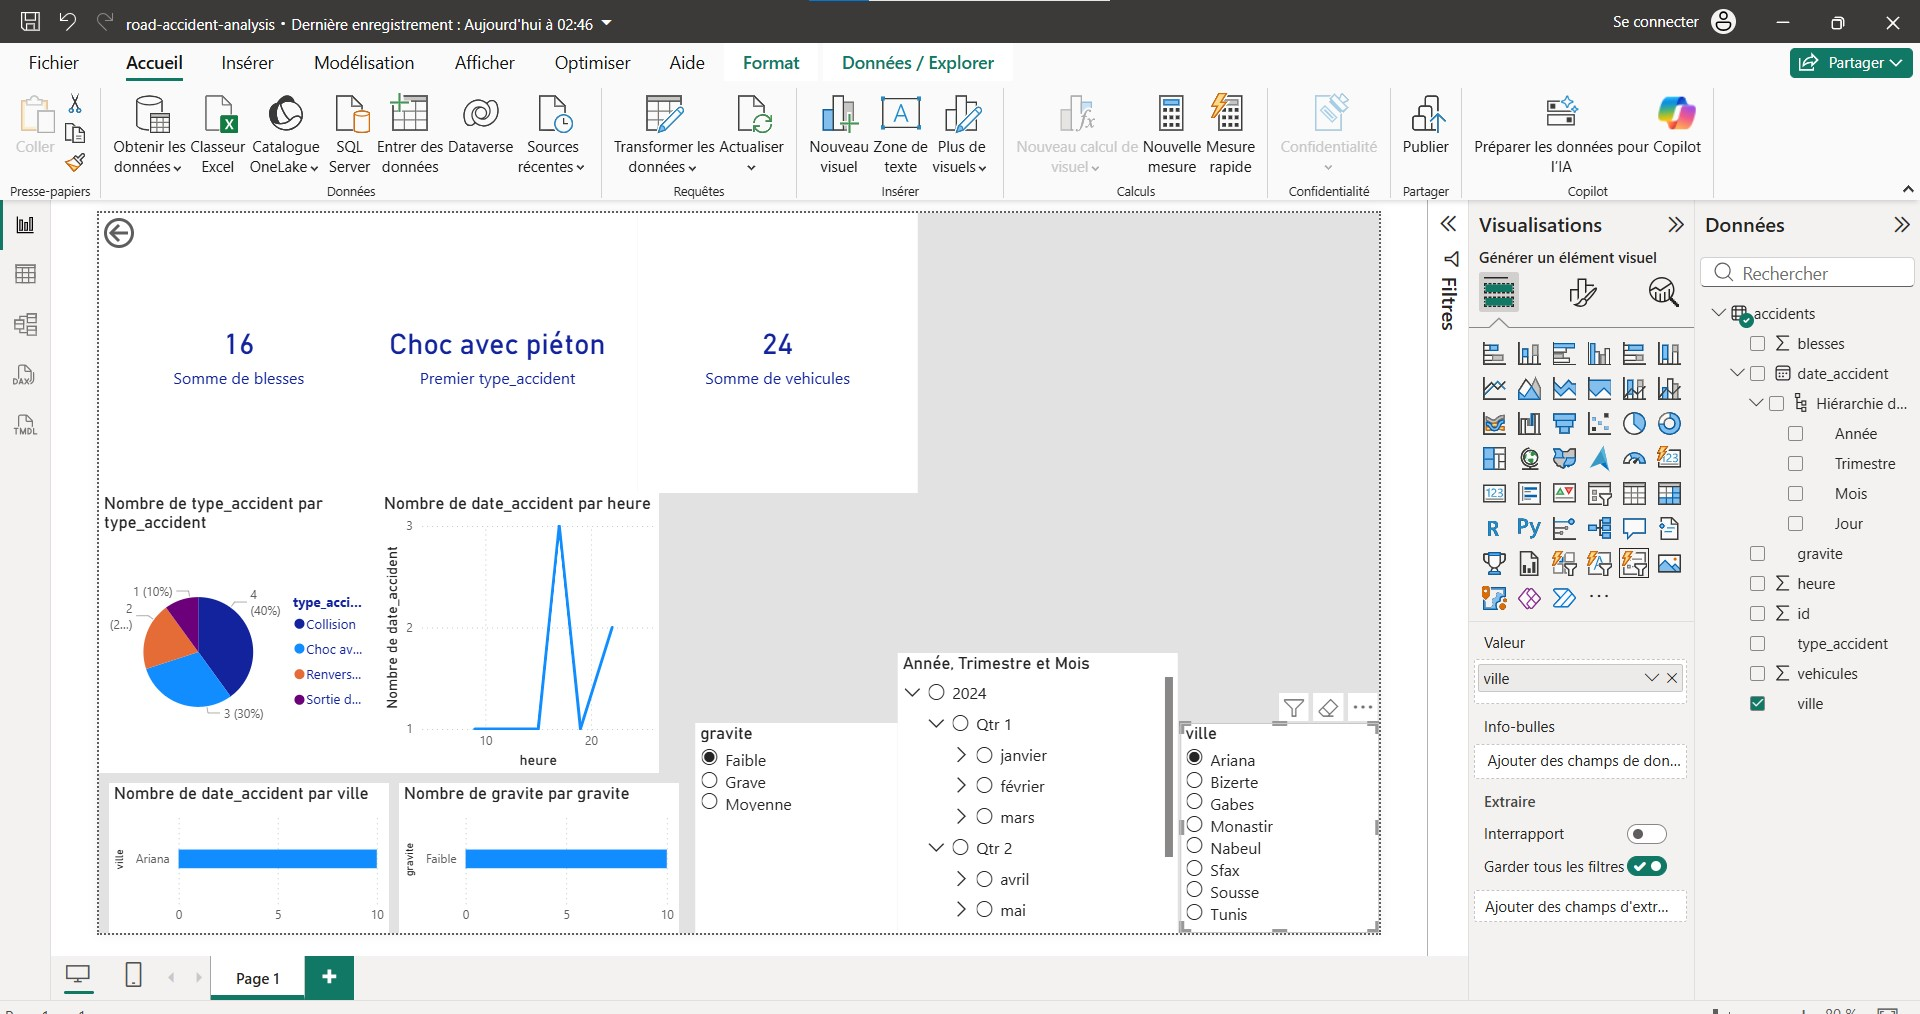

What the dashboard file says about the page in this screenshot:
{"tool":"powerbi","page":{"name":"Page 1","canvas":[1280,720],"ordinal":0},"visuals":[{"type":"card","fields":{"Values":["Sum(accidents.blesses)"]},"box":[0,0,280,280],"z":0},{"type":"card","fields":{"Values":["Min(accidents.type_accident)"]},"box":[258.8,0,280,280],"z":1000},{"type":"clusteredBarChart","fields":{"Category":["accidents.ville"],"Y":["CountNonNull(accidents.date_accident)"]},"box":[10,570,280,150],"z":2000},{"type":"pieChart","fields":{"Category":["accidents.type_accident"],"Y":["CountNonNull(accidents.type_accident)"]},"box":[0,280,280,280],"z":3000},{"type":"lineChart","fields":{"Category":["accidents.heure"],"Y":["CountNonNull(accidents.date_accident)"]},"box":[280,280,280,280],"z":4000},{"type":"barChart","fields":{"Category":["accidents.gravite"],"Y":["CountNonNull(accidents.gravite)"]},"box":[300,570,280,150],"z":5000},{"type":"card","fields":{"Values":["Sum(accidents.vehicules)"]},"box":[538.8,0,280,280],"z":6000},{"type":"actionButton","box":[0,0,100,40],"z":7000},{"type":"listSlicer","fields":{"Values":["accidents.ville"]},"box":[1081.2,510,198.8,210],"z":8000},{"type":"listSlicer","fields":{"Values":["accidents.gravite"]},"box":[596.2,510,202.5,210],"z":9000},{"type":"listSlicer","fields":{"Values":["accidents.date_accident.Variation.Hiérarchie de dates.Année","accidents.date_accident.Variation.Hiérarchie de dates.Trimestre","accidents.date_accident.Variation.Hiérarchie de dates.Mois","accidents.date_accident.Variation.Hiérarchie de dates.Jour"]},"box":[798.8,440,280,280],"z":10000}]}

Visuals, with their boxes on the page's 1280x720 design canvas (x1, y1, x2, y2). These are canvas units, not pixel positions in the 1920x1014 screenshot, which may show the page scaled, cropped or inside an application window:
card - Sum(accidents.blesses): 0 0 280 280
card - Min(accidents.type_accident): 259 0 539 280
clusteredBarChart - accidents.ville x CountNonNull(accidents.date_accident): 10 570 290 720
pieChart - accidents.type_accident x CountNonNull(accidents.type_accident): 0 280 280 560
lineChart - accidents.heure x CountNonNull(accidents.date_accident): 280 280 560 560
barChart - accidents.gravite x CountNonNull(accidents.gravite): 300 570 580 720
card - Sum(accidents.vehicules): 539 0 819 280
actionButton: 0 0 100 40
listSlicer - accidents.ville: 1081 510 1280 720
listSlicer - accidents.gravite: 596 510 799 720
listSlicer - accidents.date_accident.Variation.Hiérarchie de dates.Année x accidents.date_accident.Variation.Hiérarchie de dates.Trimestre: 799 440 1079 720
